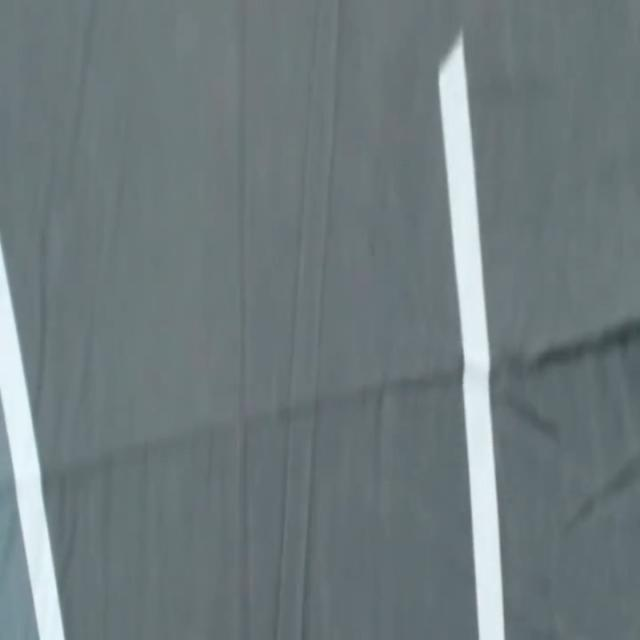center: (438, 32, 504, 639)
left: (0, 242, 64, 639)
